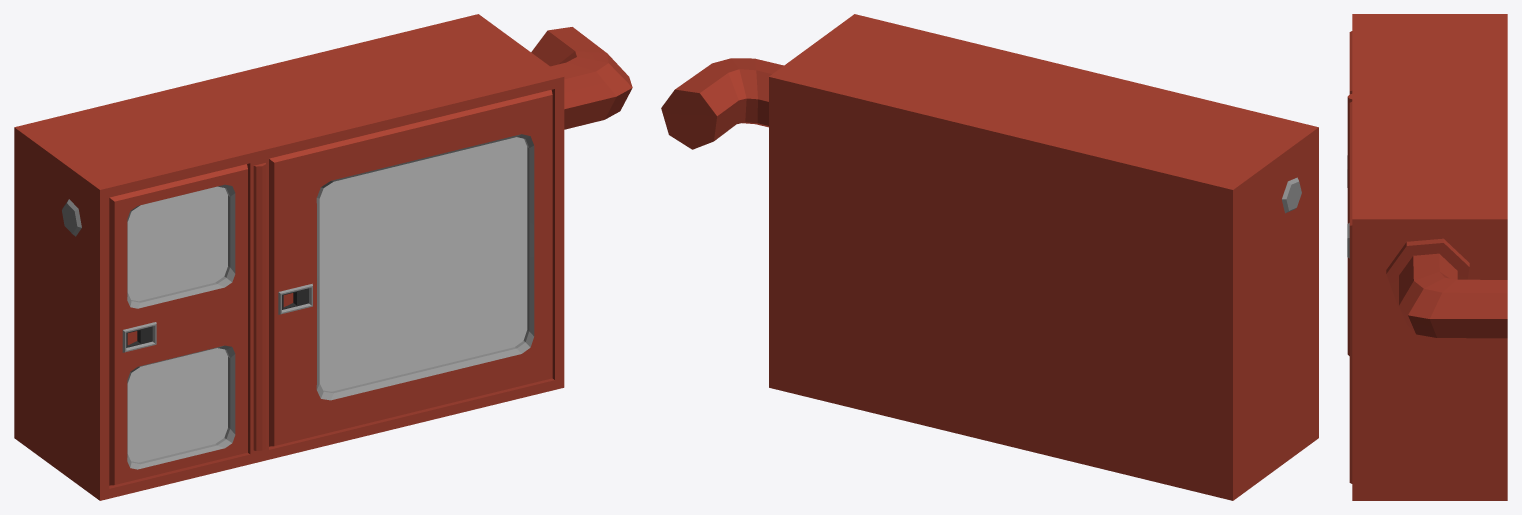
Rendered from Int_FireHoseBox01.fbx.
The picture shows the model from 3 angles, left to right: view 1: azimuth 30°, elevation 25°; view 2: azimuth 150°, elevation 25°; view 3: azimuth 270°, elevation 25°; orthographic projection. The views are drawn at different scales.
Visible parts, largest first — view 1: Int_FireHoseBox01; view 2: Int_FireHoseBox01; view 3: Int_FireHoseBox01.
Part boxes in pixels (x1,y1,x2,y2): Int_FireHoseBox01: [14, 14, 632, 500]; Int_FireHoseBox01: [661, 14, 1318, 500]; Int_FireHoseBox01: [1347, 14, 1507, 500].
Size of what is drawn, in the model's own units: 155 by 41.26 by 80.
